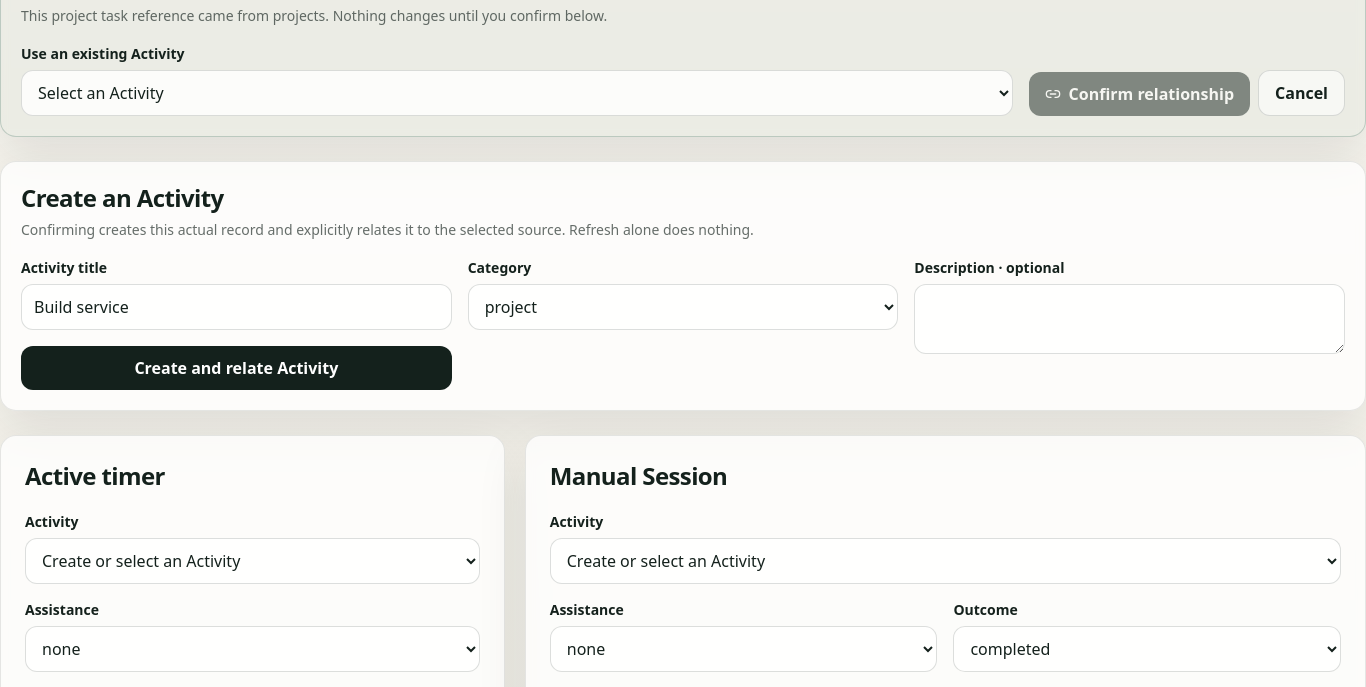
it: V2 Activity handoff › does not mutate on refresh and creates then relates only after confirmation
This screenshot has width=1366, height=687.
(page scrolled)
Click the button "Create and relate Activity" at point(236, 368), box 21,346 -> 452,390
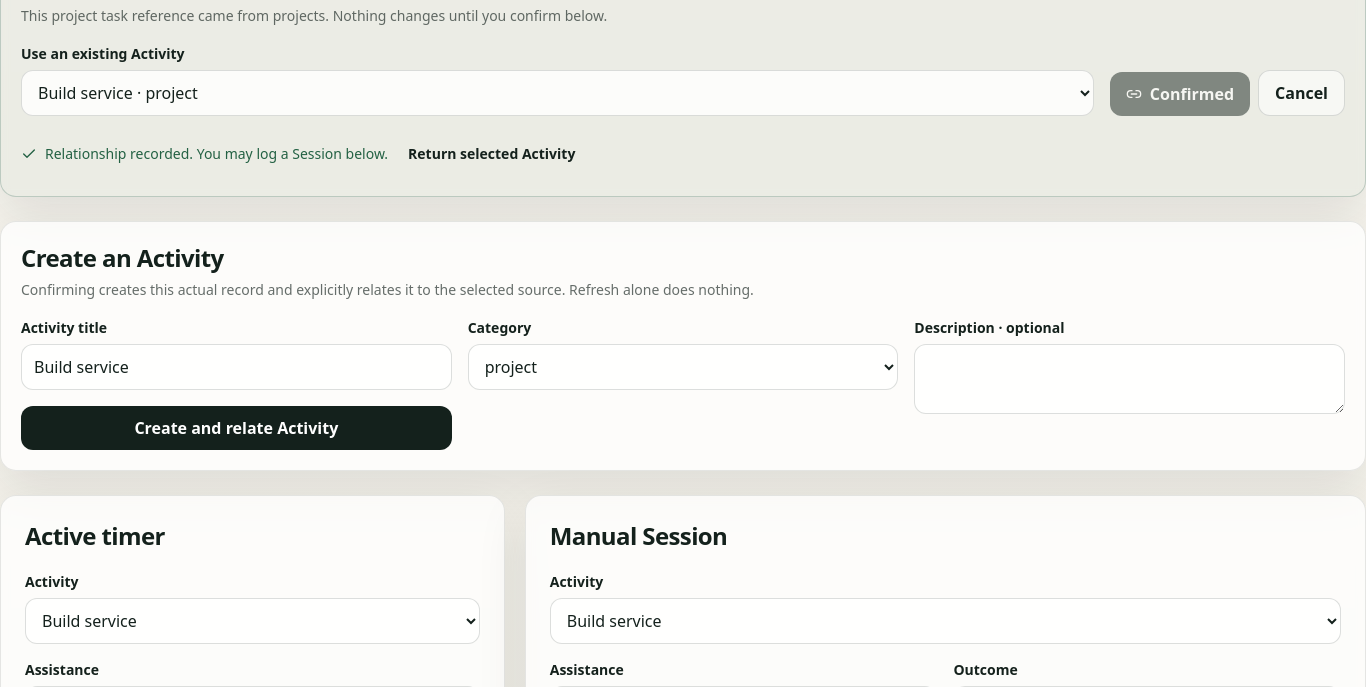
expect the text "Relationship recorded. You may log a Session below. Return selected Activity" is shown: met, box 21,144 -> 575,163
